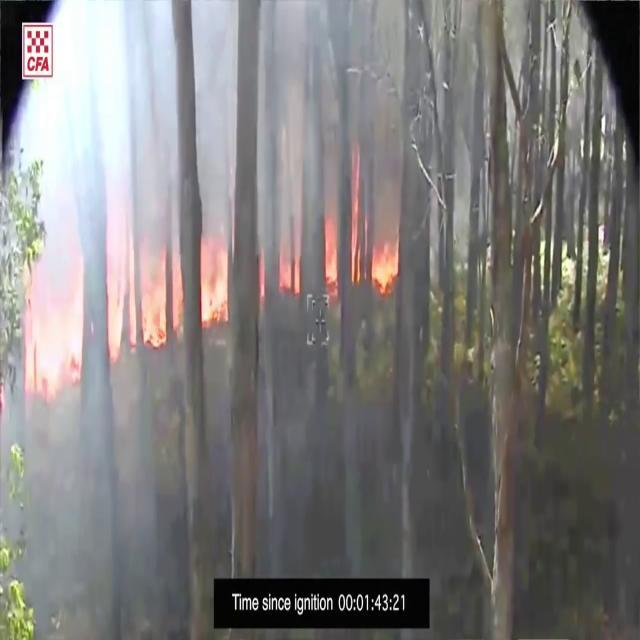Fire: (199, 234, 231, 328), (371, 237, 400, 295)
Smoke: (56, 2, 409, 302)
